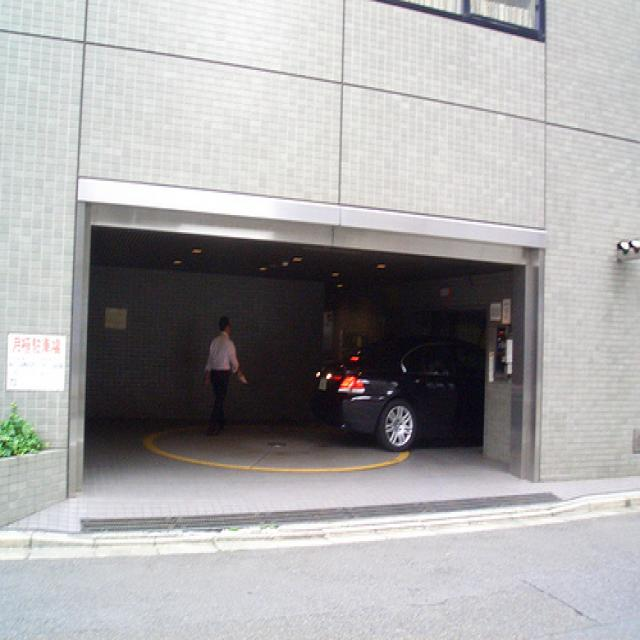Car: (316, 323, 494, 453)
